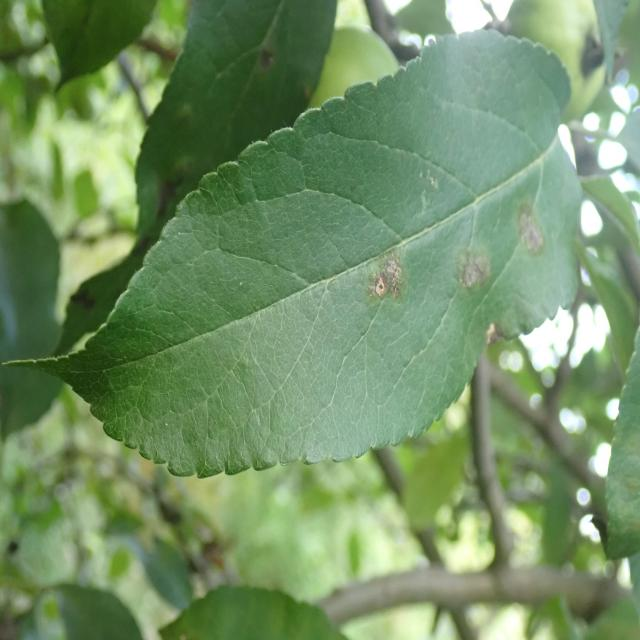scab: (333, 190, 421, 357), (432, 185, 490, 331), (505, 158, 549, 301)
